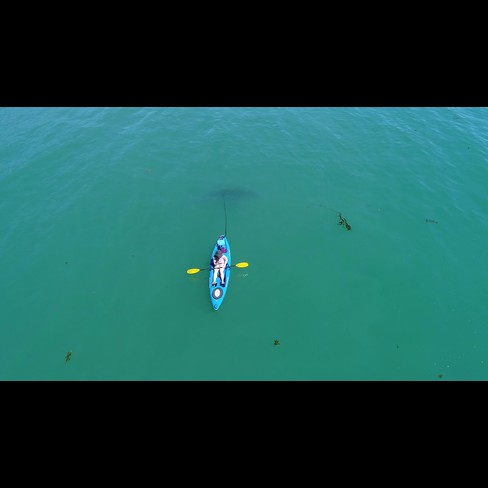boat: (186, 227, 253, 317)
